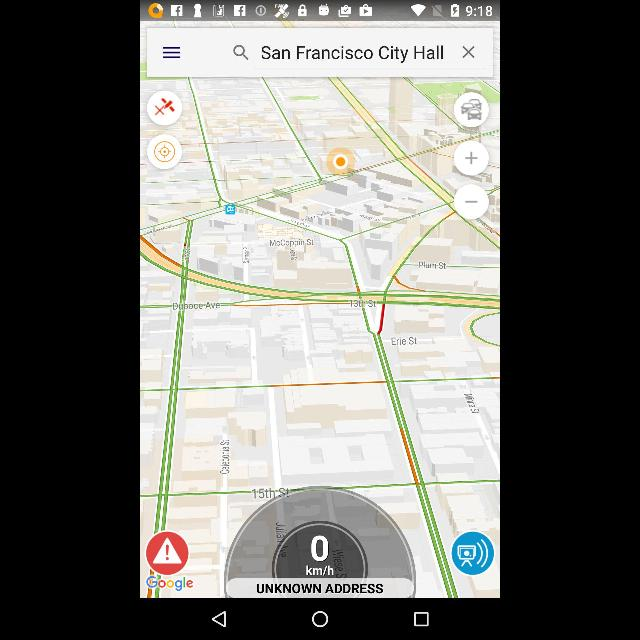icon: (158, 42, 184, 64), (228, 44, 250, 62), (458, 42, 478, 60), (311, 610, 329, 626), (413, 612, 429, 626), (212, 612, 226, 626)
map: (141, 21, 499, 598)
panel: (140, 598, 500, 638)
text: (258, 42, 447, 64)
toolbar: (147, 29, 493, 77)
uppertaskbar: (142, 0, 500, 20)
